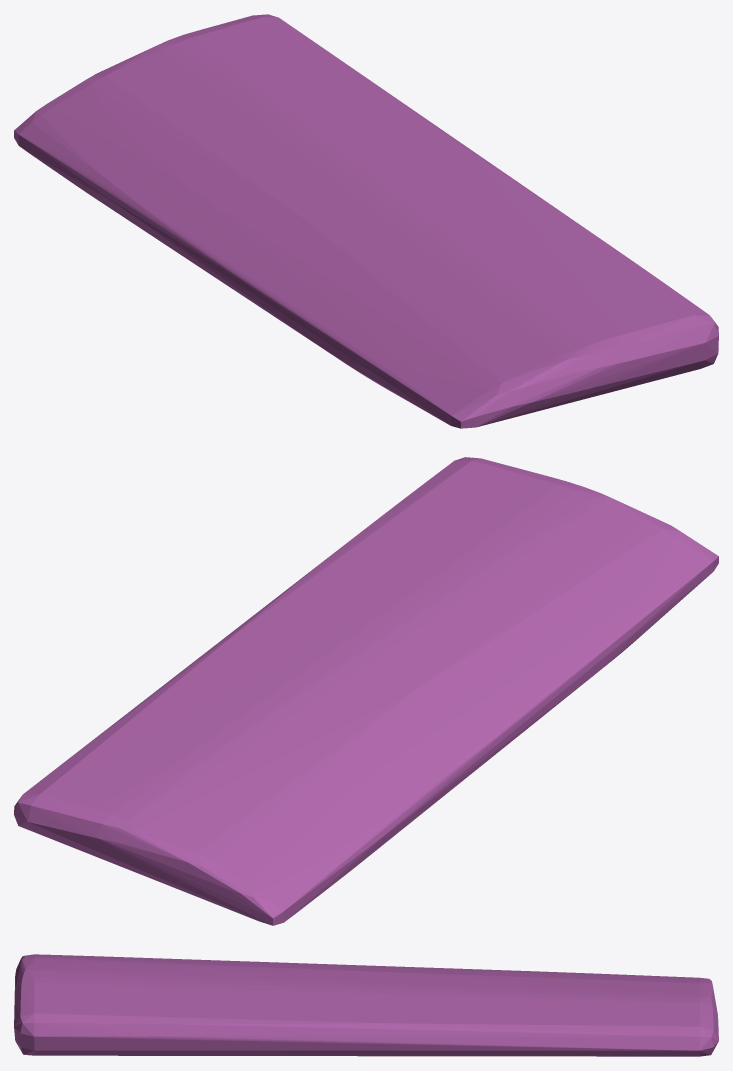
The model's file is left-shoulder-yaw-0_part_7.obj.
3 views of the same model, one above another, from view 1: azimuth 30°, elevation 25°; view 2: azimuth 150°, elevation 25°; view 3: azimuth 270°, elevation 25° (orthographic). The views are drawn at different scales.
Size of the model in its own units: 0.0193 by 0.00593 by 0.0566.
